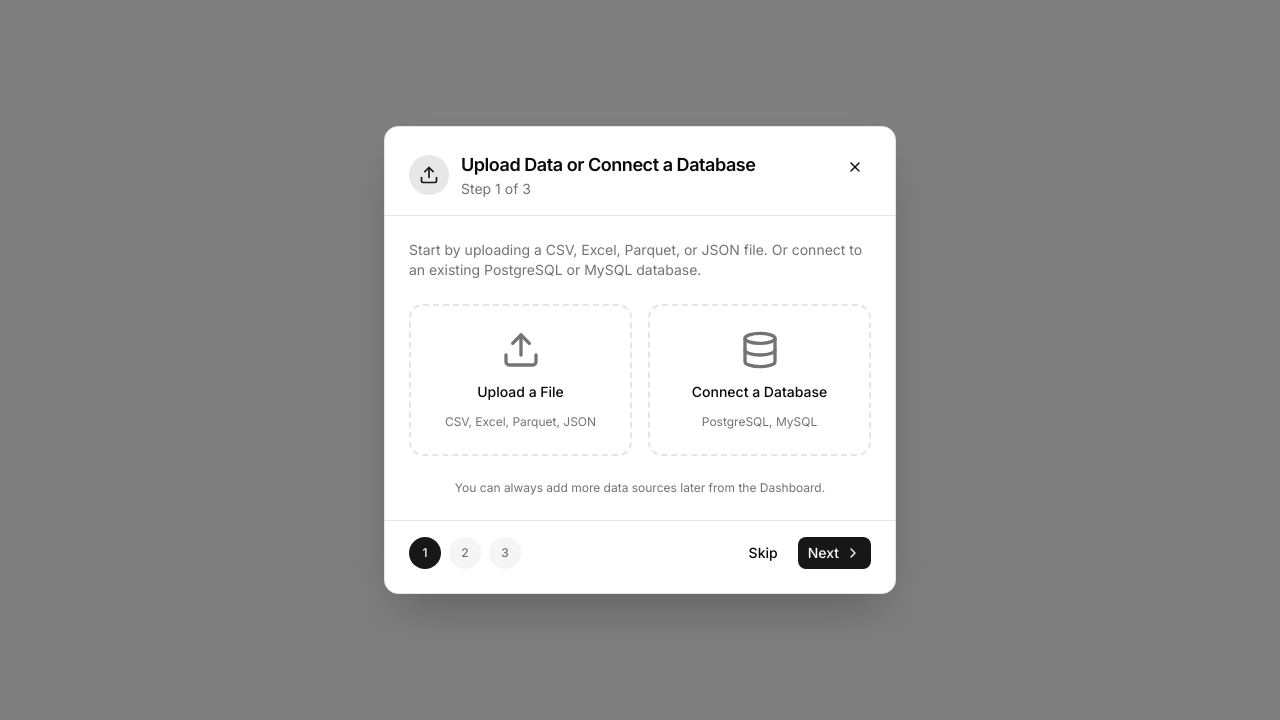
OnboardingWizard › Navigation › navigates to a step when progress indicator dot is clicked
The width and height of the screenshot is (1280, 720).
What coordinates should you click on to do the following:
click the button with test id "step-indicator-2"
I would click on:
 (505, 553)
Its box is [489,537,521,569].
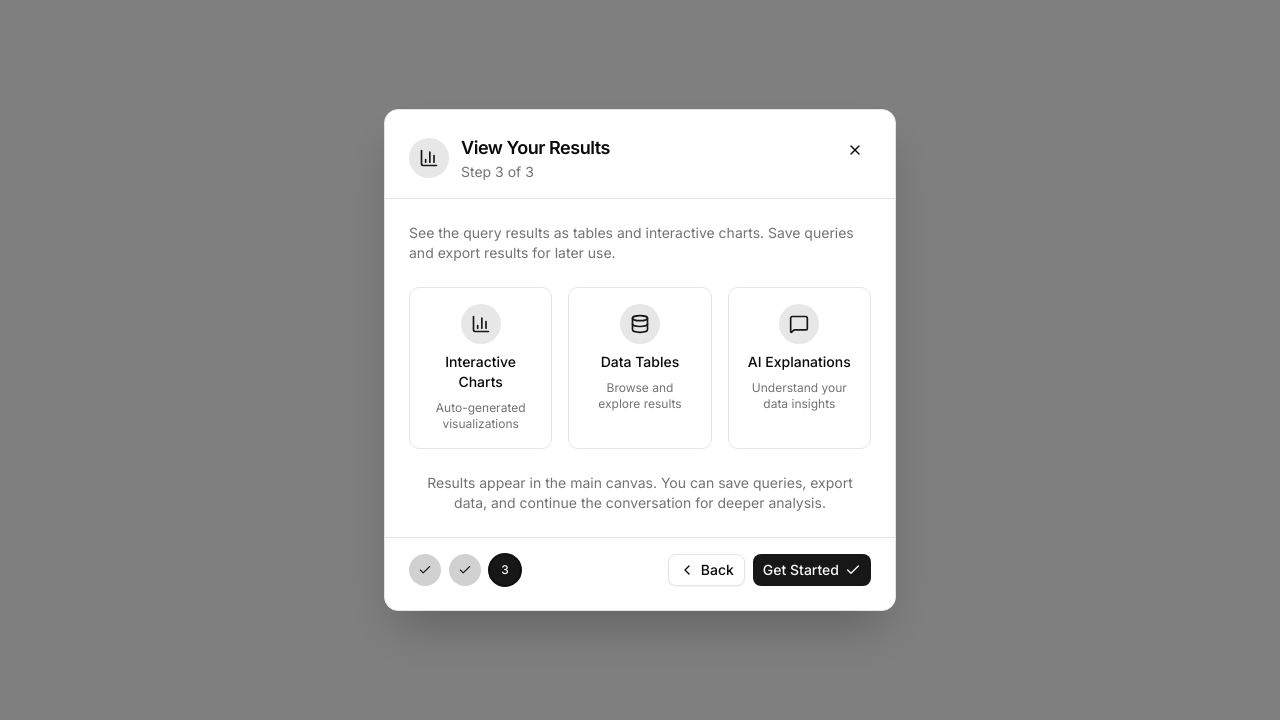
Check: the heading with test id "step-title" reads "View Your Results", box [461,137,610,158]
